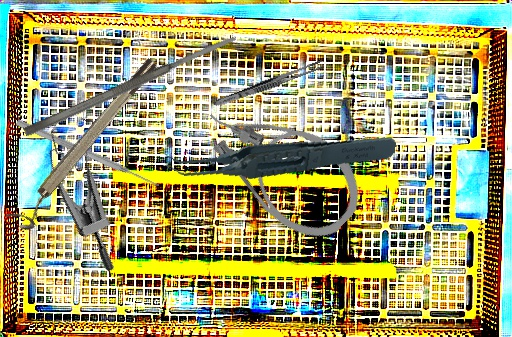Cannula: (188, 69, 378, 257)
Dressing Forceps: (212, 58, 325, 110)
Fixation Ring: (6, 55, 167, 235)
Pusher: (14, 117, 162, 191)
Spatula Surgical: (22, 32, 239, 139)
Speculum: (16, 100, 170, 275)
Tissue Forceps: (159, 100, 398, 208)
